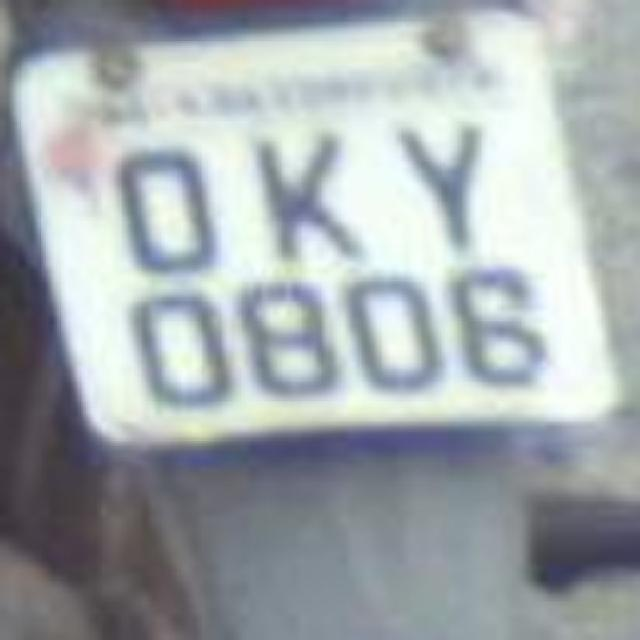0: (116, 264, 244, 416), (336, 264, 444, 396)
6: (436, 265, 564, 400)
8: (236, 268, 349, 404)
K: (244, 116, 371, 269)
O: (104, 125, 236, 280)
Y: (392, 112, 516, 252)
